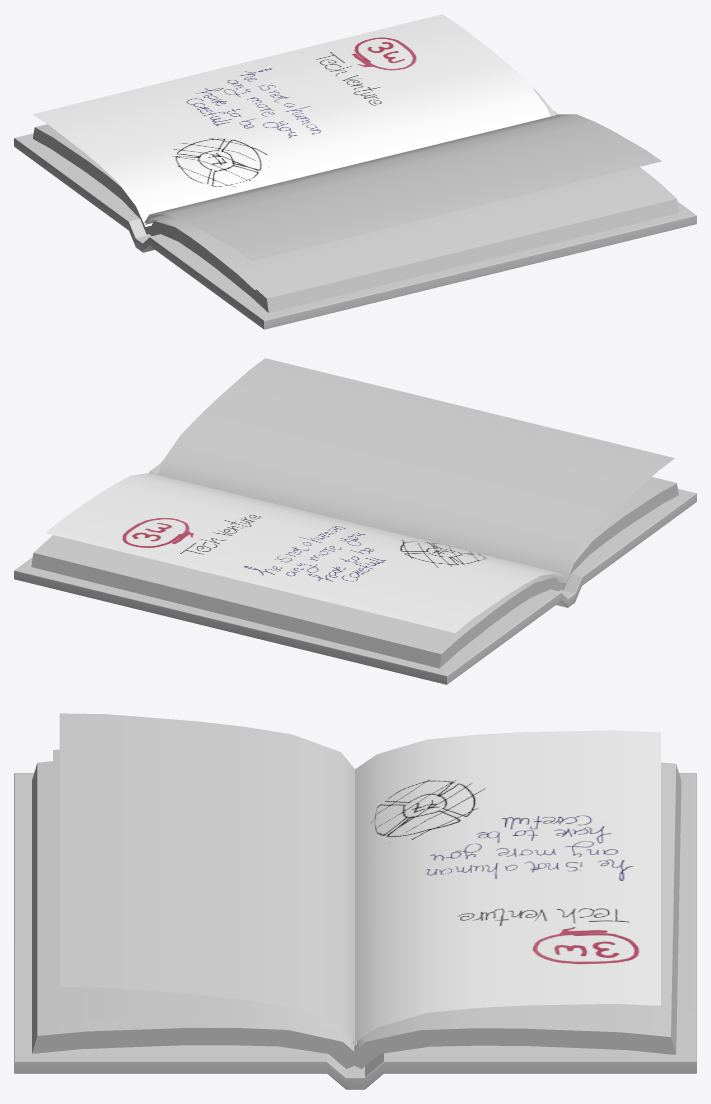
File: note book.fbx
3 views of the same model, one above another, from view 1: azimuth 30°, elevation 25°; view 2: azimuth 150°, elevation 25°; view 3: azimuth 270°, elevation 25° (orthographic). The views are drawn at different scales.
Visible parts, largest first — view 1: polySurface5 (×2), polySurface3, polySurface4, NoteBook_Base; view 2: polySurface5 (×2), polySurface3, NoteBook_Base, polySurface4; view 3: polySurface5 (×2), polySurface3, NoteBook_Base, polySurface4.
Boxes of the visible parts, x1,y1,x2,y2 form: polySurface5 (×2): (32,14,661,261); polySurface3: (33,87,678,312); polySurface4: (143,167,664,289); NoteBook_Base: (14,110,696,329); polySurface5 (×2): (45,358,674,632); polySurface3: (31,460,678,668); NoteBook_Base: (14,465,696,684); polySurface4: (558,477,677,582); polySurface5 (×2): (59,713,660,1044); polySurface3: (32,761,681,1068); NoteBook_Base: (14,773,696,1089); polySurface4: (53,749,355,1045).
Size of the model in its own units: 14.61 by 2.16 by 14.61.
2 materials, 1 textured.
